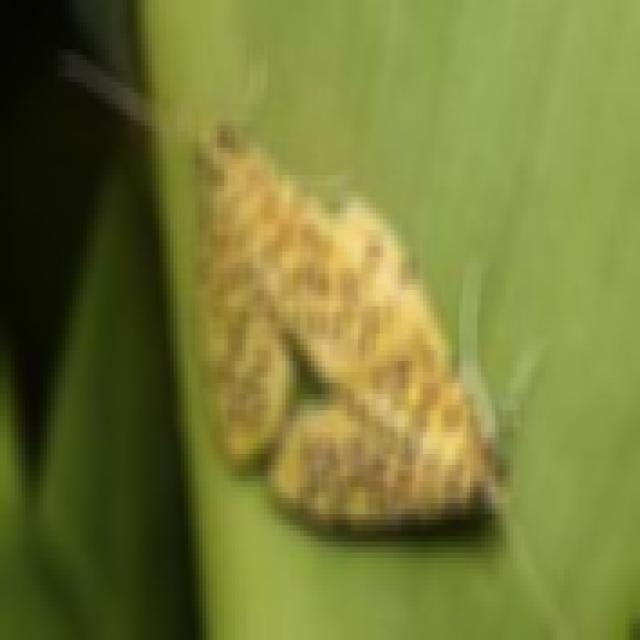peach borer: (177, 99, 542, 548)
